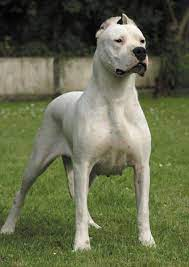dog: (10, 8, 165, 253)
